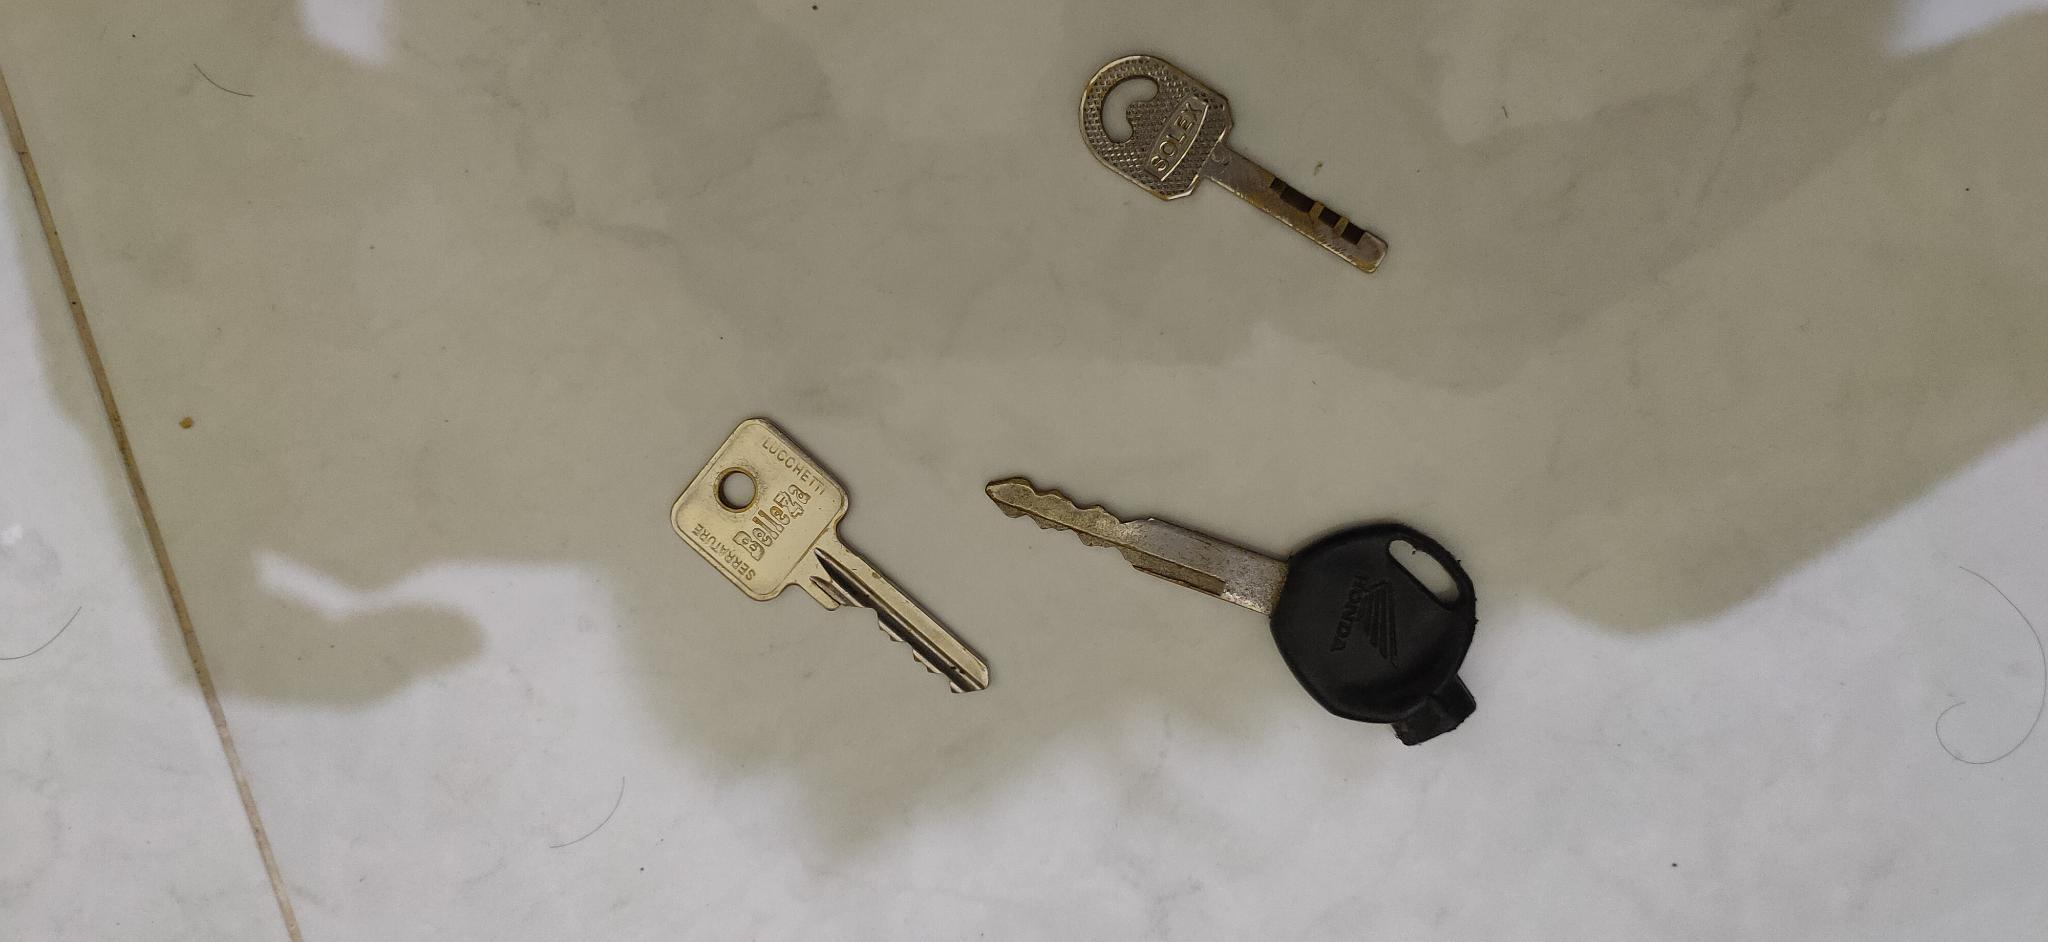keys: (978, 465, 1486, 749), (664, 412, 1002, 704), (1071, 43, 1401, 281)
